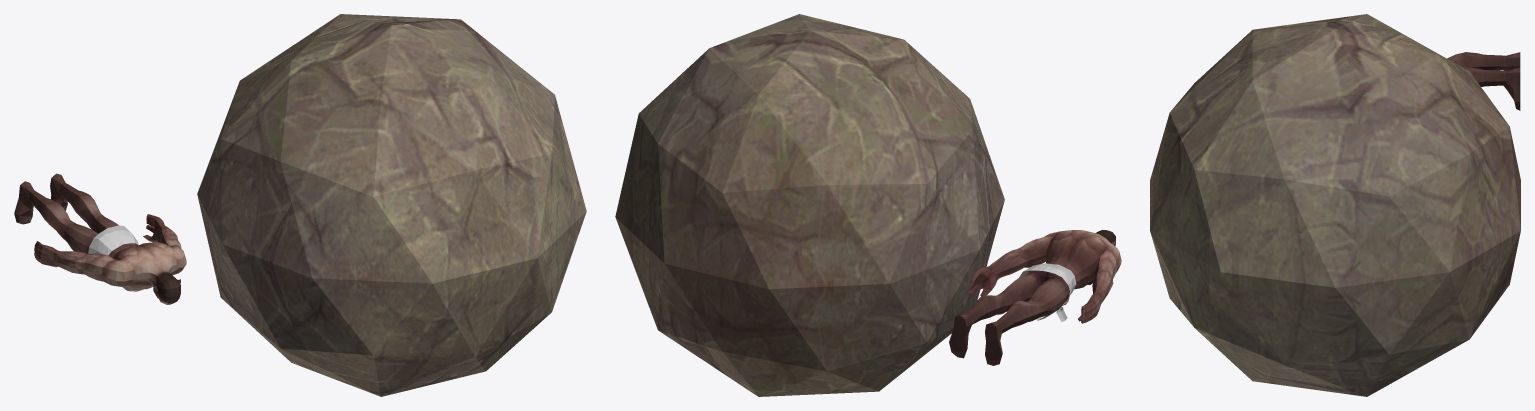
File: sisyphus.obj
The picture shows the model from 3 angles, left to right: view 1: azimuth 30°, elevation 25°; view 2: azimuth 150°, elevation 25°; view 3: azimuth 270°, elevation 25°; orthographic projection.
Parts seen in each view (by area): view 1: Sisyphus_a, Sisyphus; view 2: Sisyphus_a, Sisyphus; view 3: Sisyphus_a, Sisyphus.
Part boxes in pixels (left/top/right/bottom): Sisyphus_a: left=197, top=14, right=586, bottom=396; Sisyphus: left=14, top=173, right=186, bottom=304; Sisyphus_a: left=615, top=14, right=1004, bottom=396; Sisyphus: left=949, top=230, right=1121, bottom=365; Sisyphus_a: left=1150, top=14, right=1520, bottom=396; Sisyphus: left=1447, top=52, right=1520, bottom=110.
Bounding box in the file's own units: 182 × 126 × 120.
